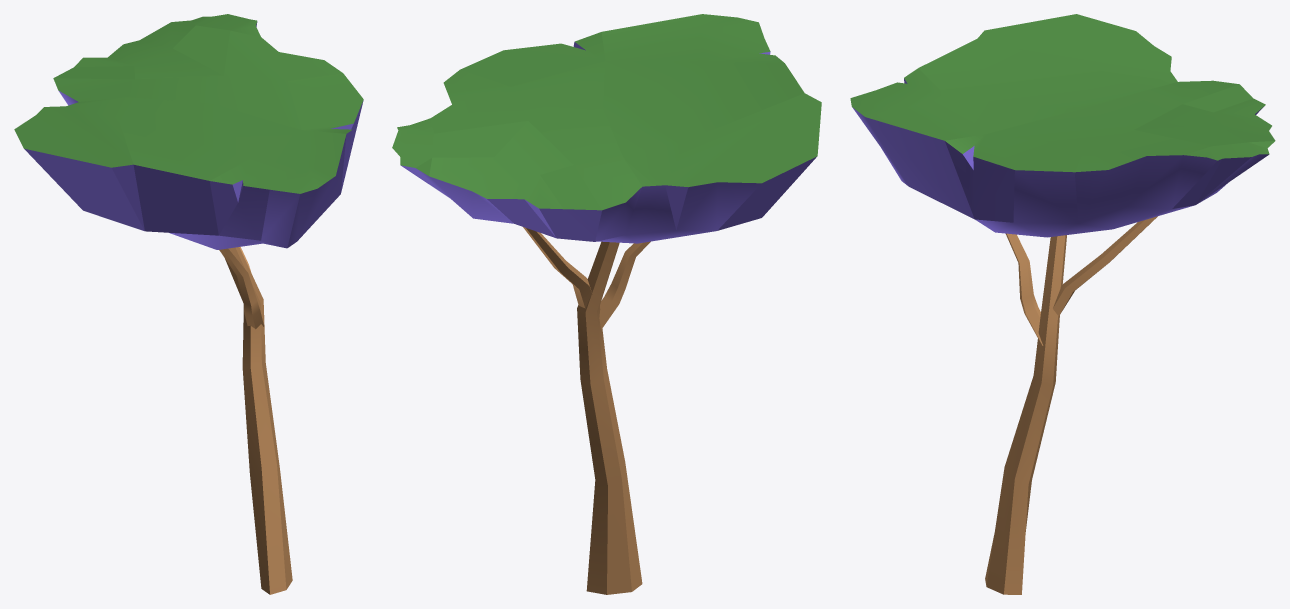
File: tree_A_canopy_B_C_solo_LOD1.fbx
The picture shows the model from 3 angles, left to right: view 1: azimuth 30°, elevation 25°; view 2: azimuth 150°, elevation 25°; view 3: azimuth 270°, elevation 25°; orthographic projection. The views are drawn at different scales.
Parts seen in each view (by area): view 1: tree_A_canopy_B_C, tree_B_canopy_B_C_trunk_A, tree_B_canopy_B_C_trunk_B; view 2: tree_A_canopy_B_C, tree_B_canopy_B_C_trunk_A, tree_B_canopy_B_C_trunk_C, tree_B_canopy_B_C_trunk_B; view 3: tree_A_canopy_B_C, tree_B_canopy_B_C_trunk_A, tree_B_canopy_B_C_trunk_C, tree_B_canopy_B_C_trunk_B.
Part boxes in pixels (x1,y1,x2,y2): tree_A_canopy_B_C: (14, 14, 363, 249); tree_B_canopy_B_C_trunk_A: (225, 247, 292, 594); tree_B_canopy_B_C_trunk_B: (219, 248, 263, 329); tree_A_canopy_B_C: (392, 14, 821, 243); tree_B_canopy_B_C_trunk_A: (577, 241, 642, 594); tree_B_canopy_B_C_trunk_C: (523, 227, 592, 308); tree_B_canopy_B_C_trunk_B: (599, 241, 650, 329); tree_A_canopy_B_C: (850, 14, 1275, 237); tree_B_canopy_B_C_trunk_A: (985, 235, 1066, 594); tree_B_canopy_B_C_trunk_C: (1053, 216, 1157, 317); tree_B_canopy_B_C_trunk_B: (1006, 233, 1043, 345).
Size of the model in its own units: 340 by 477 by 389.
